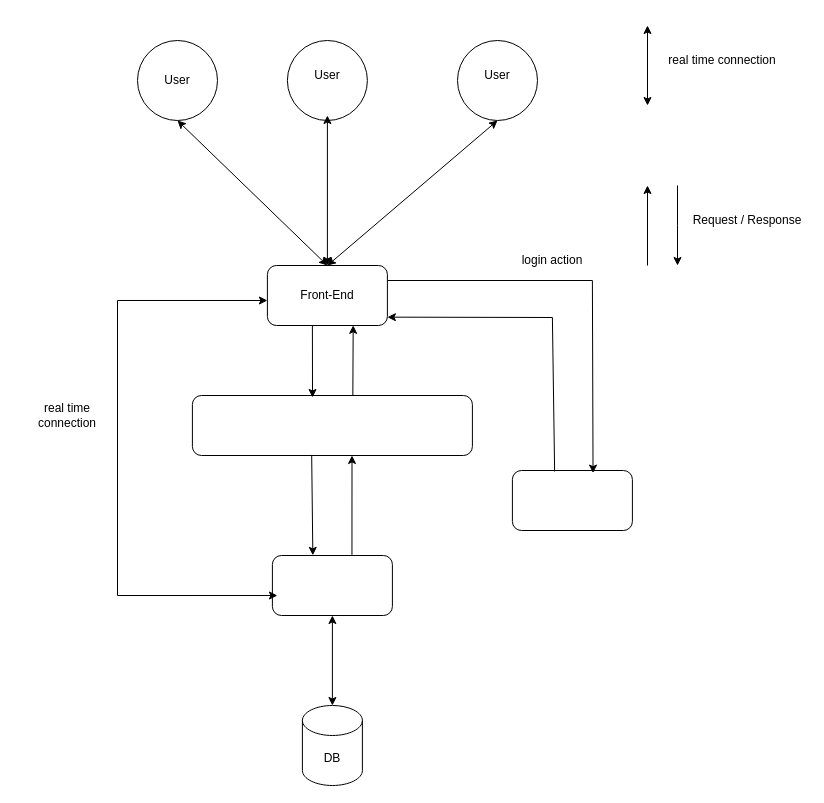
This 824x803 diagram has some shape labels left out. The box of each missing label's shape, as (x1, y1, x2, y2) in pixels:
GATEWAY: (191, 394, 472, 456)
SERVICE: (271, 554, 392, 616)
SERVICE AUTH: (511, 470, 632, 530)
